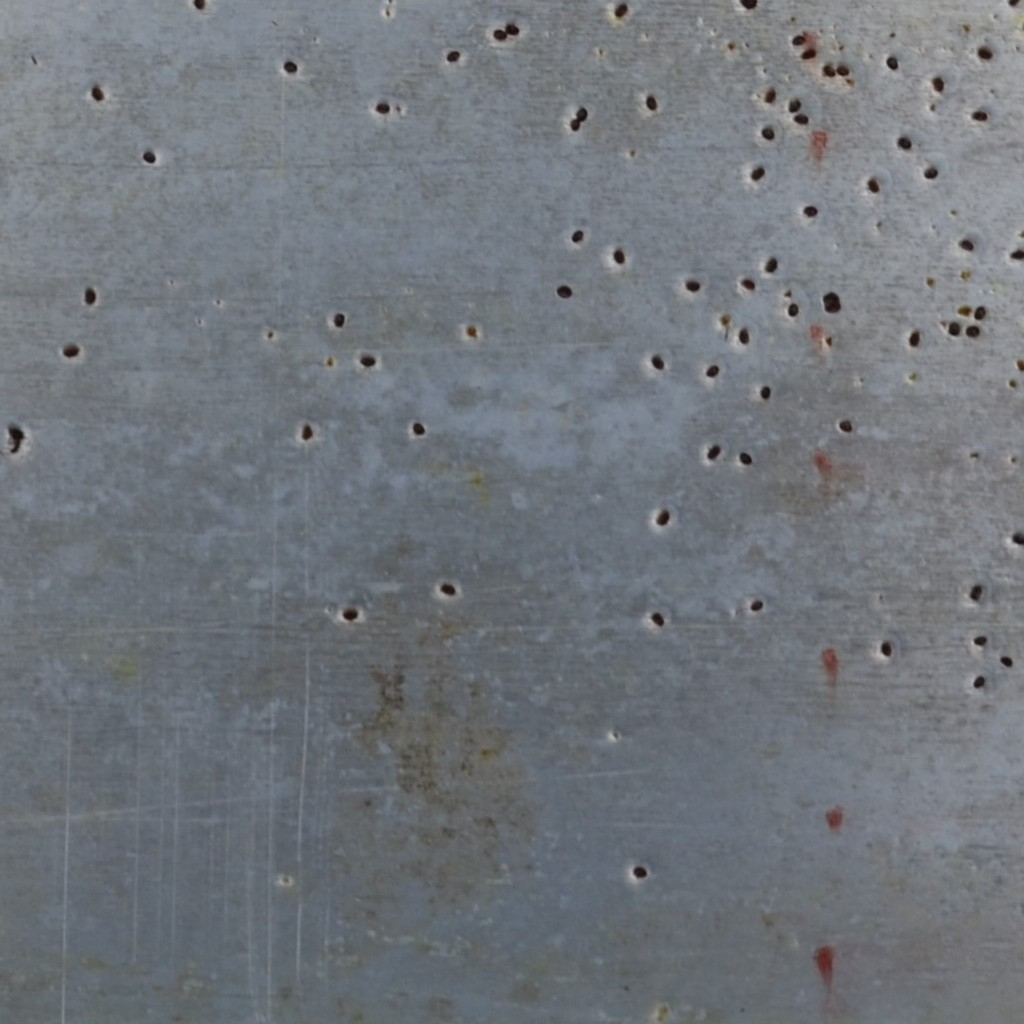varroa: (702, 436, 722, 463), (652, 505, 672, 529), (58, 340, 83, 359), (80, 283, 99, 307), (438, 580, 459, 601), (340, 607, 362, 626), (650, 350, 667, 374), (358, 353, 378, 373), (7, 423, 27, 443), (920, 162, 941, 181), (739, 273, 756, 296), (299, 421, 316, 444), (331, 307, 346, 333), (761, 254, 780, 274), (835, 418, 854, 437), (554, 282, 574, 300), (967, 582, 984, 603), (649, 608, 666, 629), (822, 299, 844, 315), (976, 44, 994, 63), (997, 652, 1015, 671), (758, 123, 777, 141), (749, 596, 767, 615), (683, 276, 702, 294), (631, 862, 649, 881), (798, 44, 818, 61), (737, 325, 752, 347), (748, 165, 766, 183), (703, 361, 721, 379), (945, 318, 962, 337), (444, 48, 463, 65), (411, 420, 428, 439), (895, 136, 915, 152), (971, 672, 987, 692), (610, 2, 630, 18), (757, 382, 773, 402), (611, 245, 626, 266), (786, 96, 804, 113), (574, 105, 592, 122), (141, 146, 158, 164), (972, 303, 988, 322), (879, 639, 895, 658), (762, 87, 778, 106), (802, 201, 818, 220), (738, 448, 754, 467), (570, 227, 586, 246), (644, 92, 659, 112), (964, 322, 981, 339), (374, 100, 391, 117), (971, 107, 989, 123), (930, 75, 946, 93), (884, 55, 900, 73), (865, 177, 881, 195), (281, 58, 299, 74), (90, 84, 106, 102), (789, 33, 808, 48), (907, 328, 921, 348), (738, 0, 759, 13), (792, 112, 811, 126), (491, 26, 507, 42), (972, 633, 990, 647), (504, 22, 520, 37), (958, 238, 975, 252), (786, 302, 799, 320), (1011, 528, 1023, 547), (822, 63, 837, 78), (836, 62, 850, 78), (190, 0, 207, 13), (569, 117, 582, 133), (1009, 246, 1023, 260), (821, 293, 841, 301)
